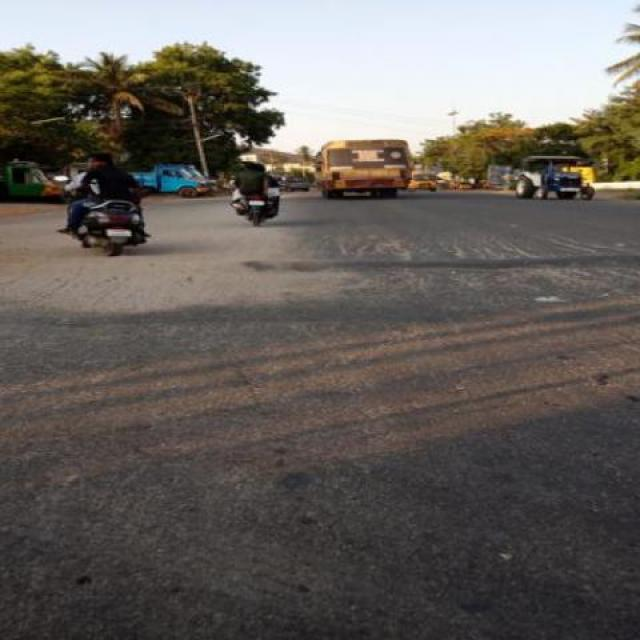Pothole: (592, 372, 611, 386), (624, 391, 640, 401)
Unmarked Bump: (40, 252, 639, 276)
